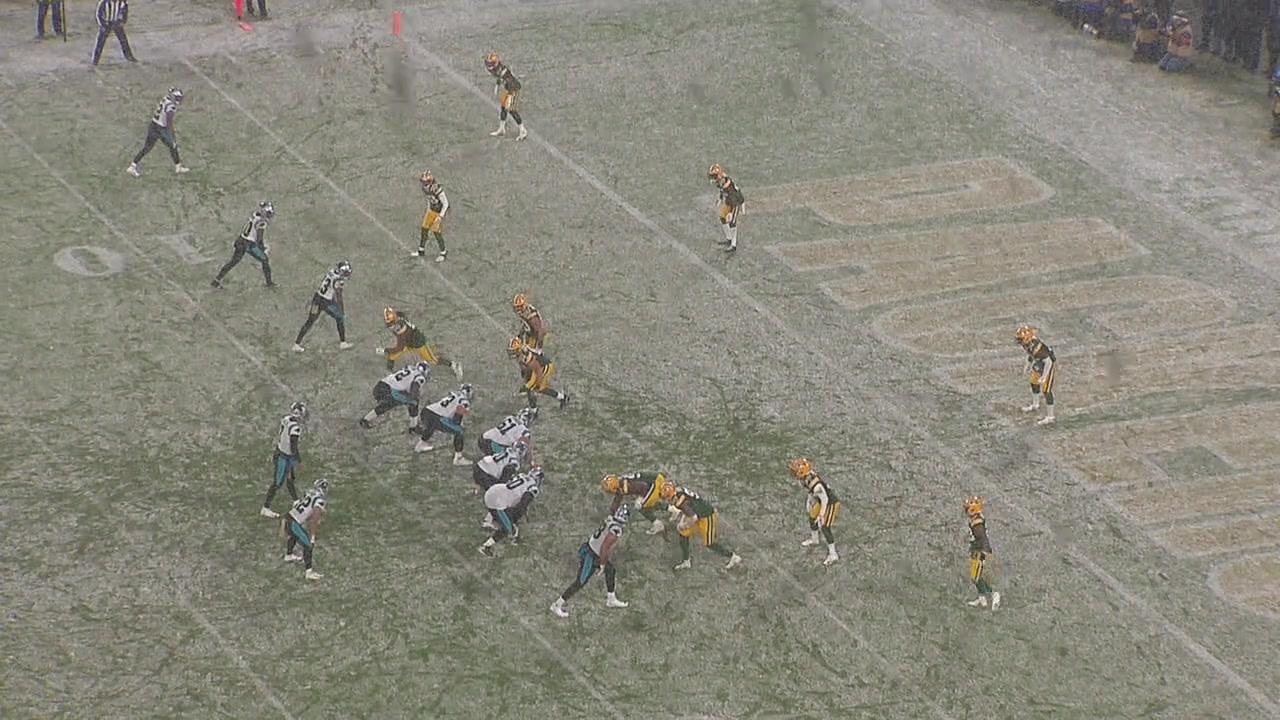player: (551, 504, 634, 626), (663, 487, 746, 579), (377, 306, 466, 390), (209, 196, 281, 298), (789, 455, 851, 570), (478, 464, 551, 561), (292, 258, 357, 362), (507, 333, 572, 433), (362, 356, 430, 448), (957, 491, 1005, 614), (283, 477, 339, 581), (418, 376, 483, 465), (596, 469, 683, 535), (127, 86, 186, 182), (263, 397, 309, 515), (481, 47, 532, 150), (1014, 323, 1062, 432), (504, 287, 549, 396), (476, 409, 540, 482), (474, 434, 531, 505), (709, 159, 747, 259), (416, 164, 453, 263)
ref: (86, 0, 149, 64)
